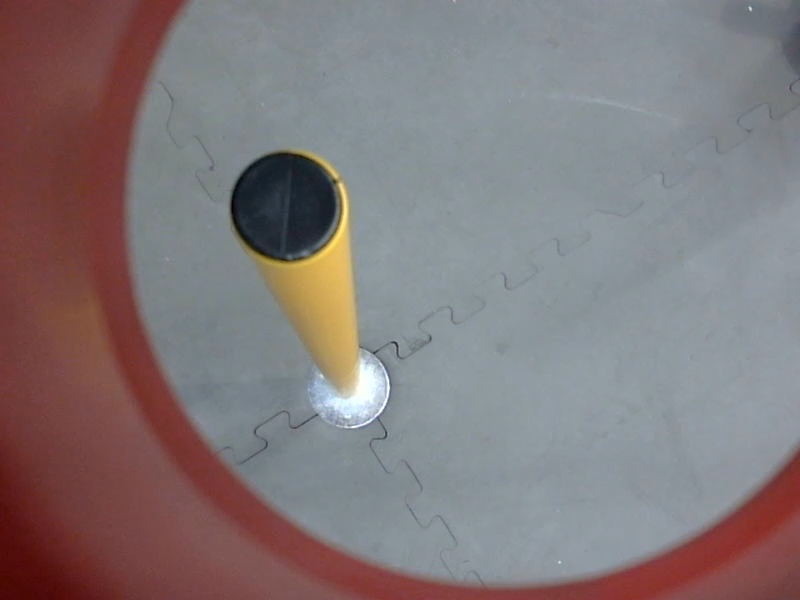tip: (223, 146, 352, 274)
